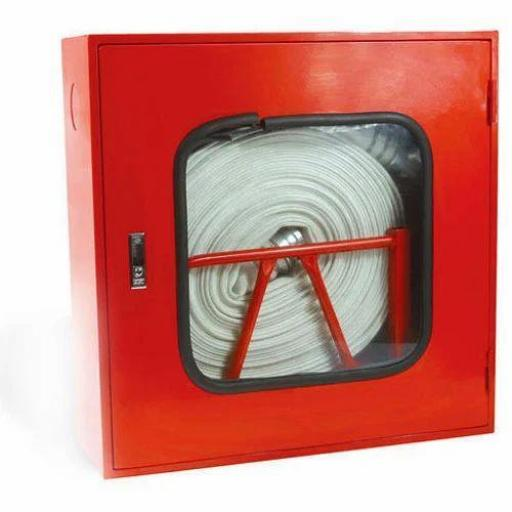fire_hose: (56, 23, 512, 484)
